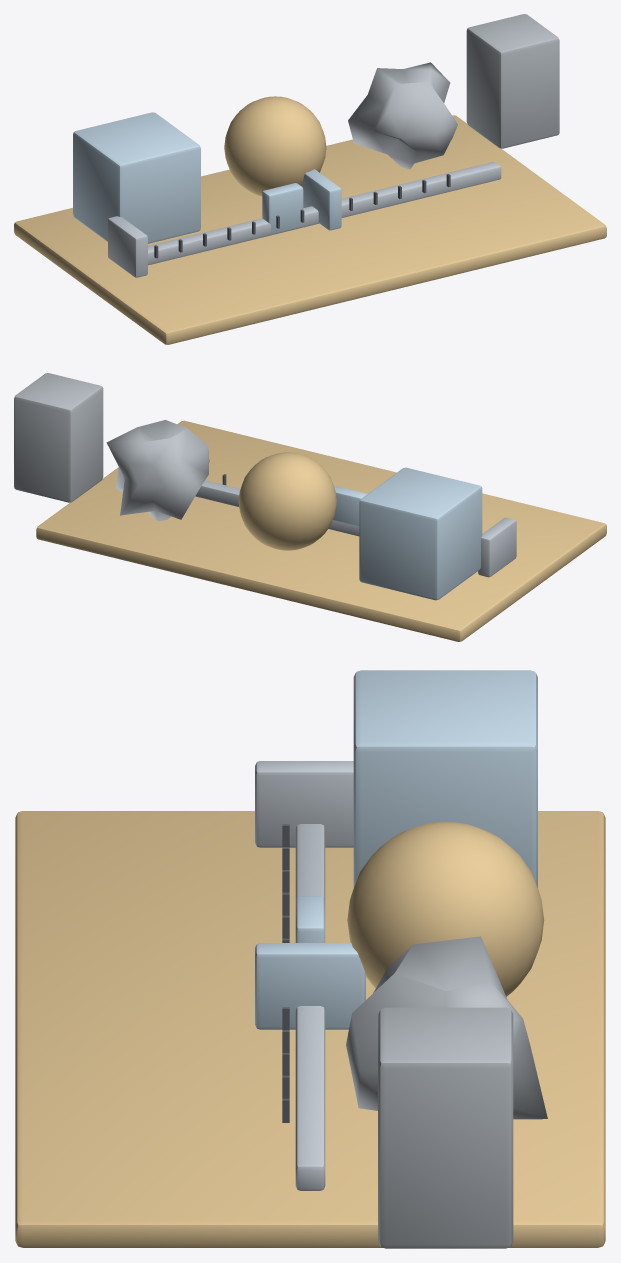
The model's file is dimension_apparatus.glb.
3 renders of one model, top to bottom at view 1: azimuth 30°, elevation 25°; view 2: azimuth 150°, elevation 25°; view 3: azimuth 270°, elevation 25°, orthographic. The views are drawn at different scales.
Parts seen in each view (by area): view 1: Display_Board, Geometry_Cube, Geometry_Cone, Geometry_Rock, Geometry_Sphere, Caliper_Beam, Caliper_Fixed_Jaw, Caliper_Sliding_Jaw, Caliper_Vernier, Caliper; view 2: Display_Board, Geometry_Cube, Geometry_Cone, Geometry_Sphere, Geometry_Rock, Caliper_Fixed_Jaw, Caliper_Beam, Caliper_Vernier; view 3: Display_Board, Geometry_Cone, Geometry_Cube, Geometry_Sphere, Geometry_Rock, Caliper_Sliding_Jaw, Caliper_Beam, Caliper_Fixed_Jaw, Caliper, Caliper_Vernier.
Boxes of the visible parts, x1,y1,x2,y2 form: Display_Board: (14, 115, 606, 344); Geometry_Cube: (73, 112, 200, 243); Geometry_Cone: (466, 14, 559, 148); Geometry_Rock: (348, 62, 457, 169); Geometry_Sphere: (224, 96, 326, 196); Caliper_Beam: (148, 162, 501, 265); Caliper_Fixed_Jaw: (108, 216, 147, 277); Caliper_Sliding_Jaw: (301, 169, 341, 230); Caliper_Vernier: (262, 183, 303, 233); Caliper: (154, 174, 450, 258); Display_Board: (36, 420, 606, 641); Geometry_Cube: (359, 467, 482, 600); Geometry_Cone: (14, 373, 103, 502); Geometry_Sphere: (238, 452, 336, 550); Geometry_Rock: (106, 420, 209, 521); Caliper_Fixed_Jaw: (478, 517, 516, 577); Caliper_Beam: (195, 480, 359, 536); Caliper_Vernier: (333, 486, 367, 525); Display_Board: (15, 811, 605, 1247); Geometry_Cone: (378, 1007, 513, 1248); Geometry_Cube: (353, 670, 537, 887); Geometry_Sphere: (347, 821, 544, 996); Geometry_Rock: (346, 936, 547, 1119); Caliper_Sliding_Jaw: (255, 943, 365, 1029); Caliper_Beam: (295, 824, 325, 1190); Caliper_Fixed_Jaw: (255, 761, 353, 847); Caliper: (282, 824, 289, 1122); Caliper_Vernier: (295, 896, 325, 942).
Bounding box in the file's own units: 4.43 × 1.05 × 2.4.
